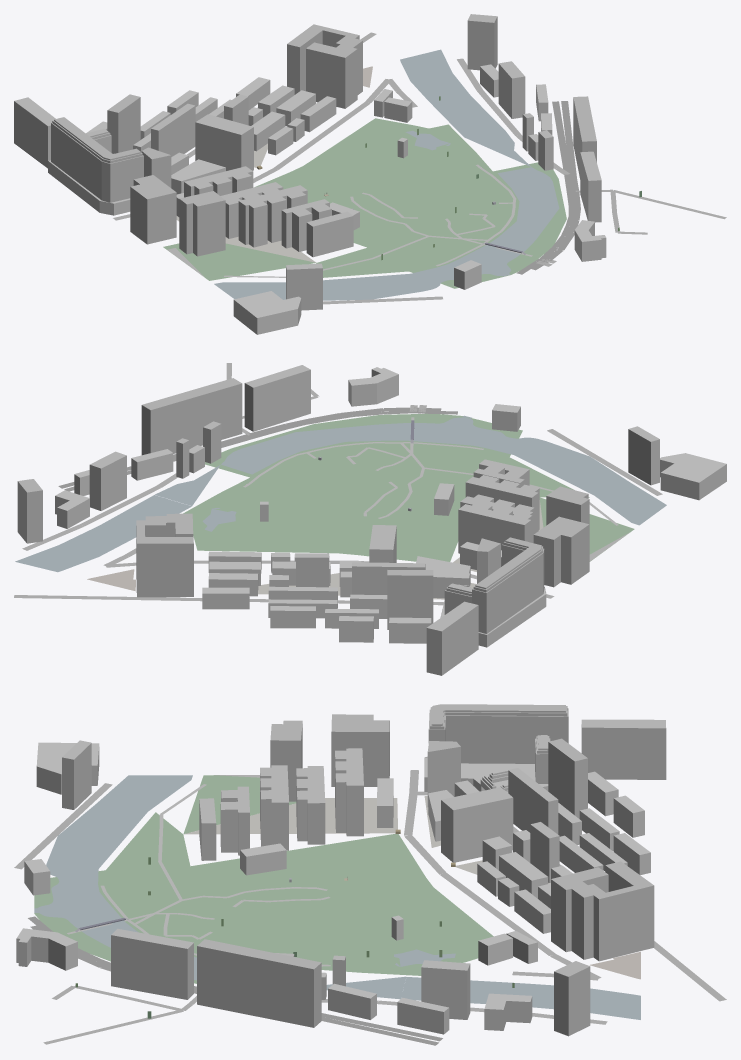
3 views of the same model, one above another, from view 1: azimuth 30°, elevation 25°; view 2: azimuth 150°, elevation 25°; view 3: azimuth 270°, elevation 25° (orthographic). The views are drawn at different scales.
Size of the model in its own units: 550 by 60.7 by 588.
